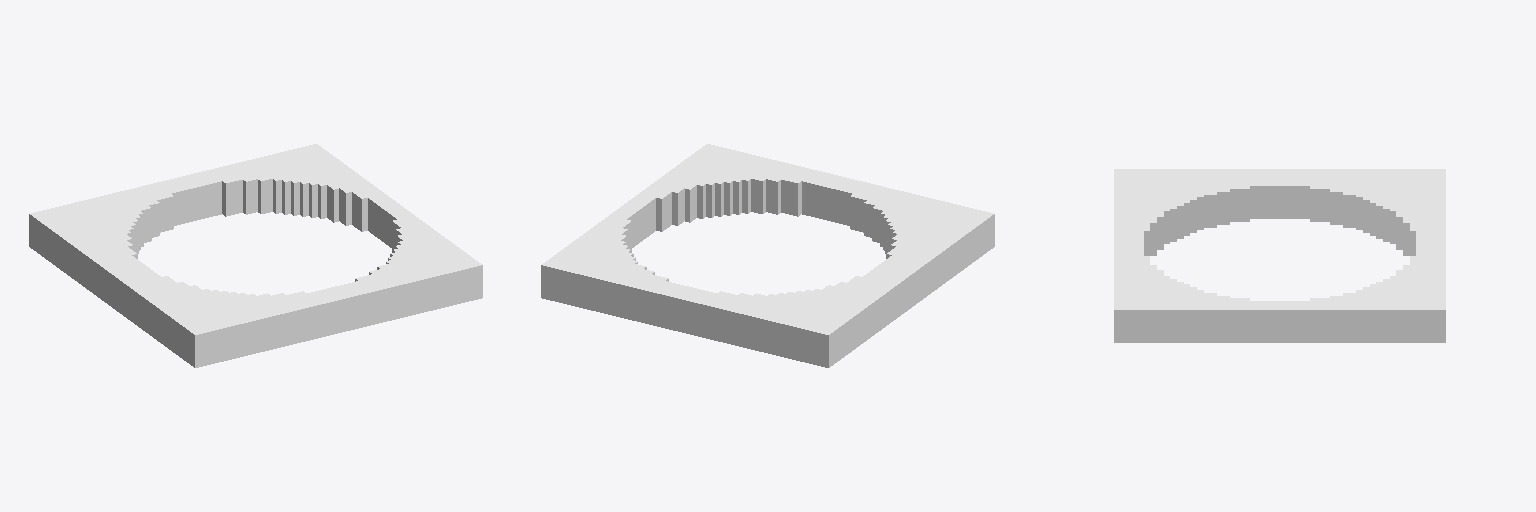
The model's file is Dungeon_Loch.obj.
3 views of the same model, side by side, from view 1: azimuth 30°, elevation 25°; view 2: azimuth 150°, elevation 25°; view 3: azimuth 270°, elevation 25° (orthographic).
Visible parts, largest first — view 1: object 1; view 2: object 1; view 3: object 1.
Part boxes in pixels (x1,y1,x2,y2): object 1: (29, 144, 482, 367); object 1: (541, 144, 994, 367); object 1: (1114, 169, 1445, 342).
Size of the model in its own units: 10 by 1.1 by 10.